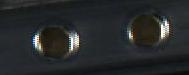joints: (123, 7, 171, 54), (30, 19, 80, 61)
